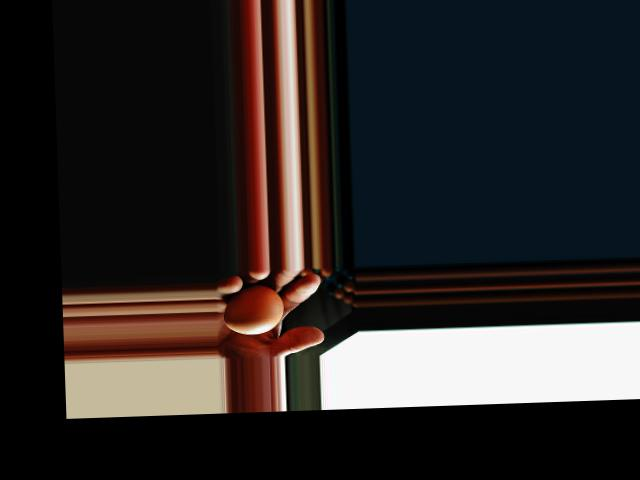egg: (221, 282, 284, 334)
